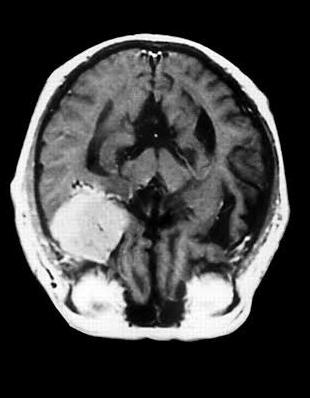Tumour-Meningioma: (49, 168, 131, 269)
